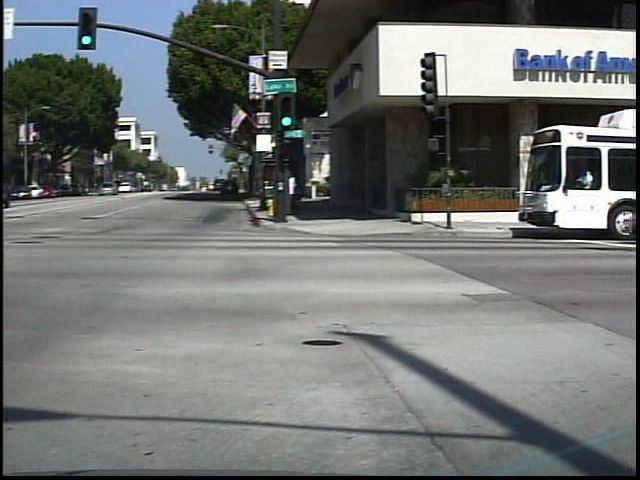person: (299, 167, 306, 217)
